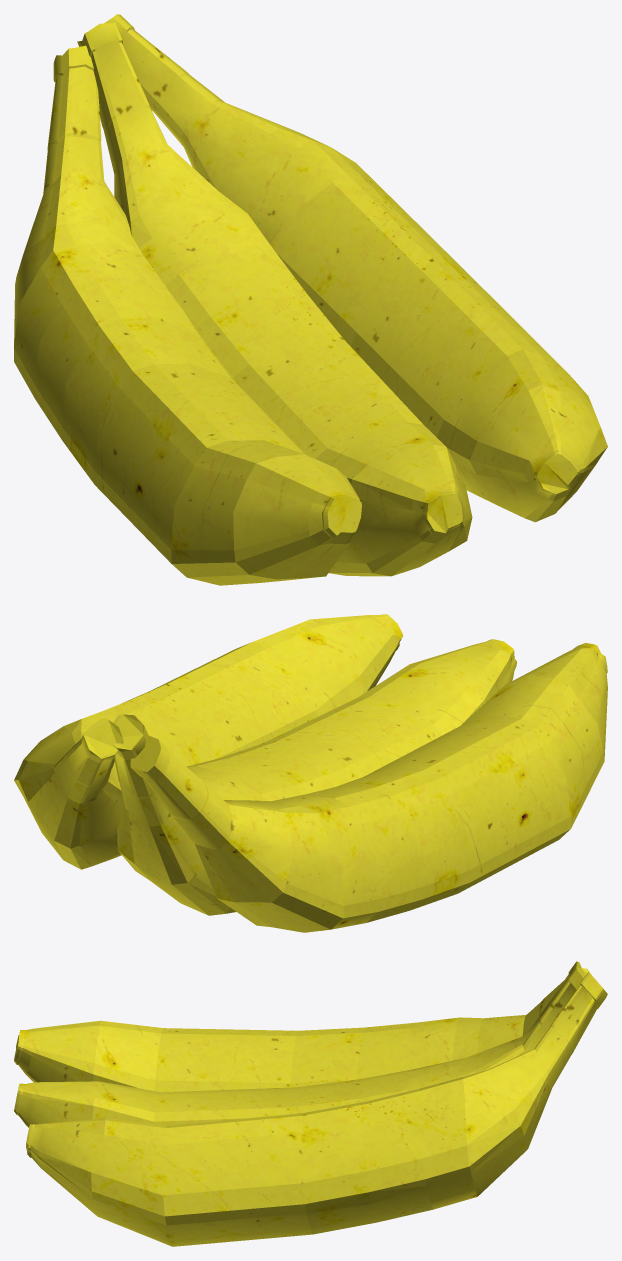
Rendered from Banana.FBX.
The picture shows the model from 3 angles, top to bottom: view 1: azimuth 30°, elevation 25°; view 2: azimuth 150°, elevation 25°; view 3: azimuth 270°, elevation 25°; orthographic projection. The views are drawn at different scales.
Visible parts, largest first — view 1: pCube009; view 2: pCube009; view 3: pCube009.
Part boxes in pixels (x1=…): pCube009: x1=14, y1=14, x2=607, y2=585; pCube009: x1=14, y1=614, x2=607, y2=932; pCube009: x1=14, y1=961, x2=607, y2=1246.
Size of the model in its own units: 2.83 by 2.11 by 4.58.
Materials: 1 (1 with a texture image).
